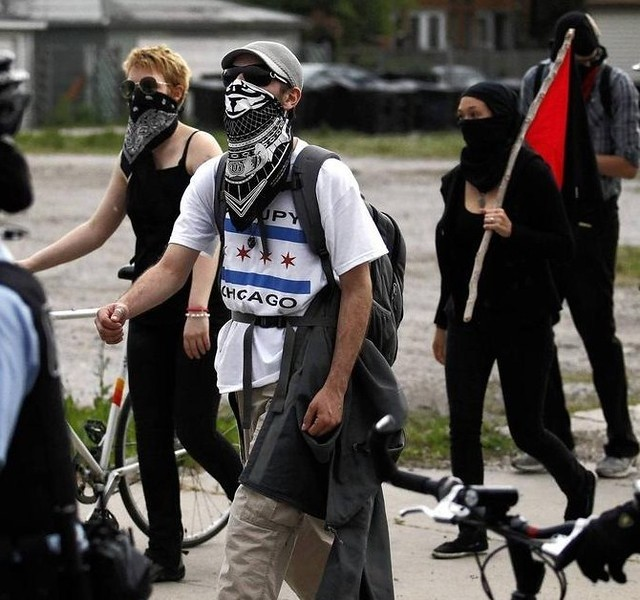face_with_mask: (220, 42, 304, 141), (119, 46, 192, 133)
